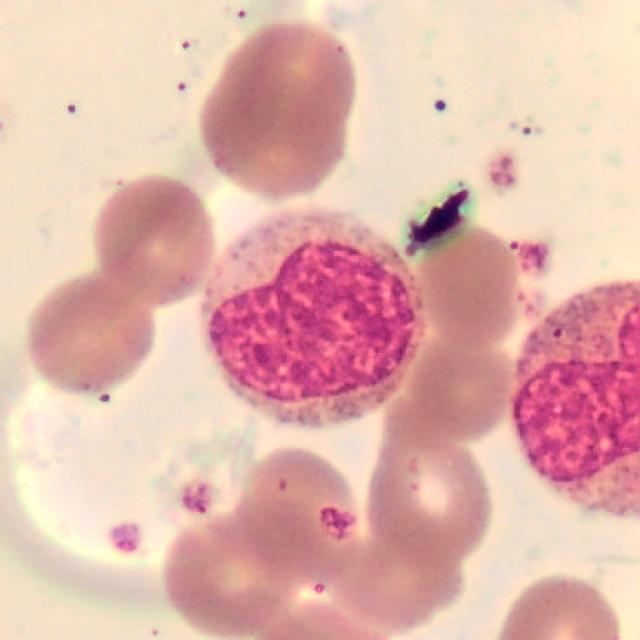Metamielocito: (200, 211, 424, 426)
